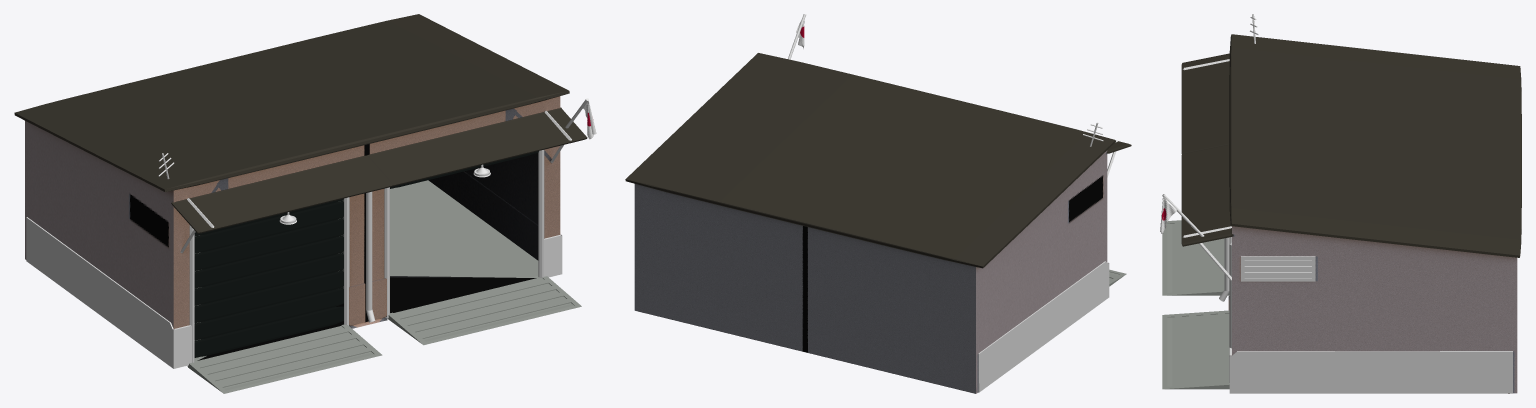
Rendered from garage.fbx.
The picture shows the model from 3 angles, left to right: view 1: azimuth 30°, elevation 25°; view 2: azimuth 150°, elevation 25°; view 3: azimuth 270°, elevation 25°; orthographic projection. The views are drawn at different scales.
Parts seen in each view (by area): view 1: roof, walls, floor, garage doors, small roof, walls.001, doorBevel, rain tube; view 2: roof, walls, walls.001; view 3: roof, walls, walls.001, floor, small roof, vent, roof holders, rain tube, doorBevel.
Part boxes in pixels (x1,y1,x2,y2): roof: (14,14,569,191); walls: (25,96,561,360); floor: (187,180,581,393); garage doors: (194,151,538,357); small roof: (171,107,587,233); walls.001: (26,217,562,368); doorBevel: (189,150,544,362); rain tube: (366,191,375,322); roof: (625,53,1115,268); walls: (634,150,1108,393); walls.001: (978,261,1109,392); roof: (1229,34,1521,257); walls: (1228,226,1517,393); walls.001: (1229,348,1512,393); floor: (1162,220,1229,389); small roof: (1181,53,1233,246); vent: (1241,256,1315,281); roof holders: (1182,59,1231,280); rain tube: (1219,237,1229,301); doorBevel: (1229,237,1231,382).
Bounding box in the file's own units: 21.17 × 10.57 × 17.06.
